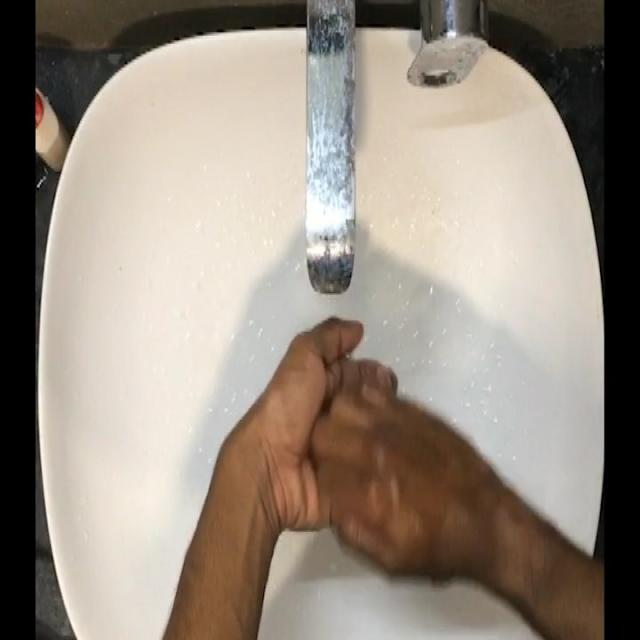step_4: (242, 320, 483, 557)
